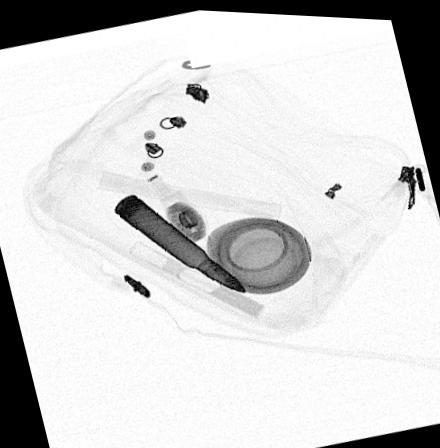Bullet: (111, 190, 246, 288)
